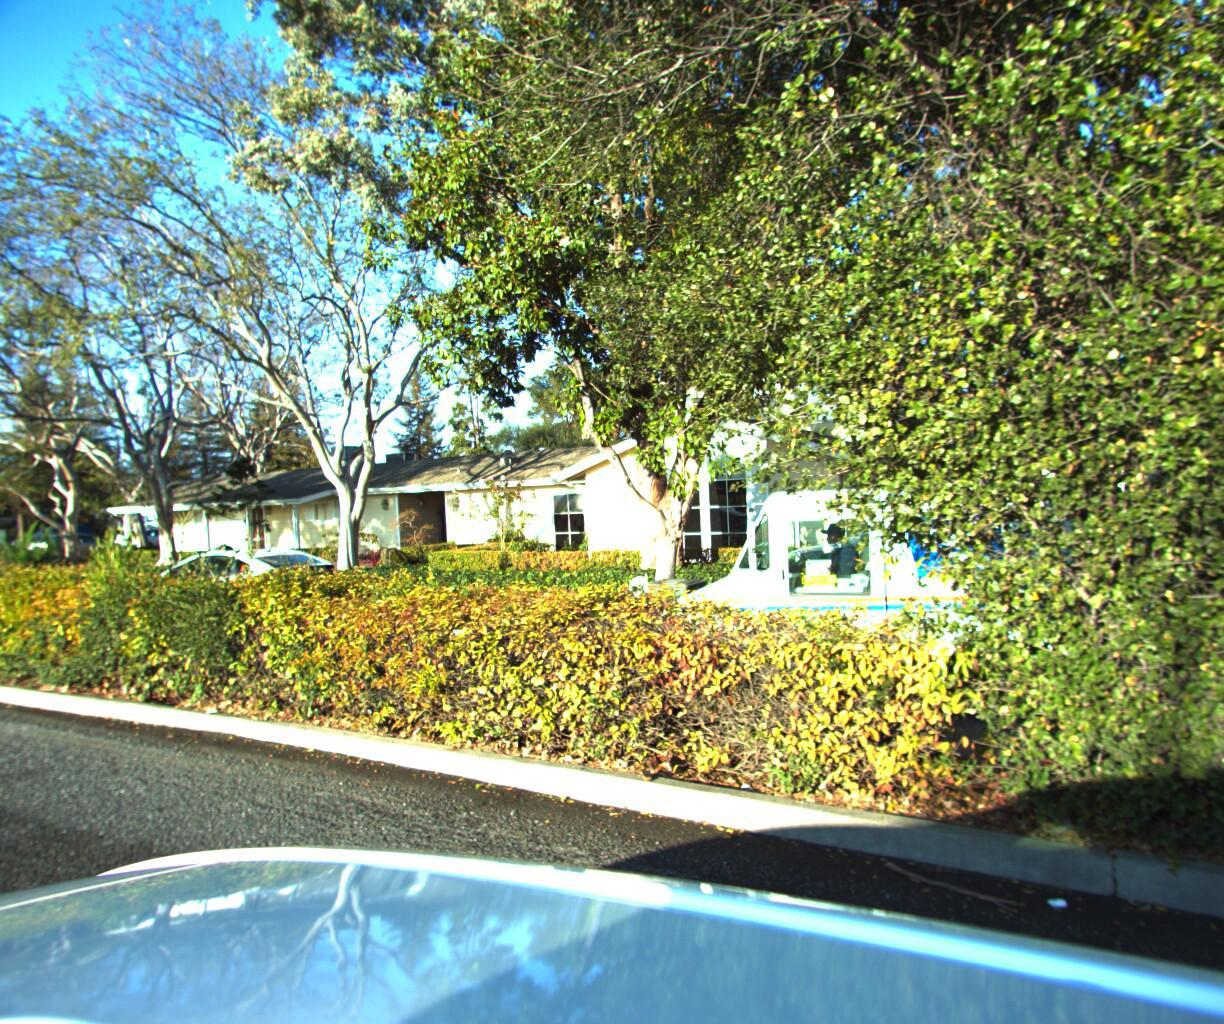car: (106, 538, 360, 647), (16, 522, 133, 561), (110, 517, 205, 553)
truck: (583, 470, 1032, 690)
